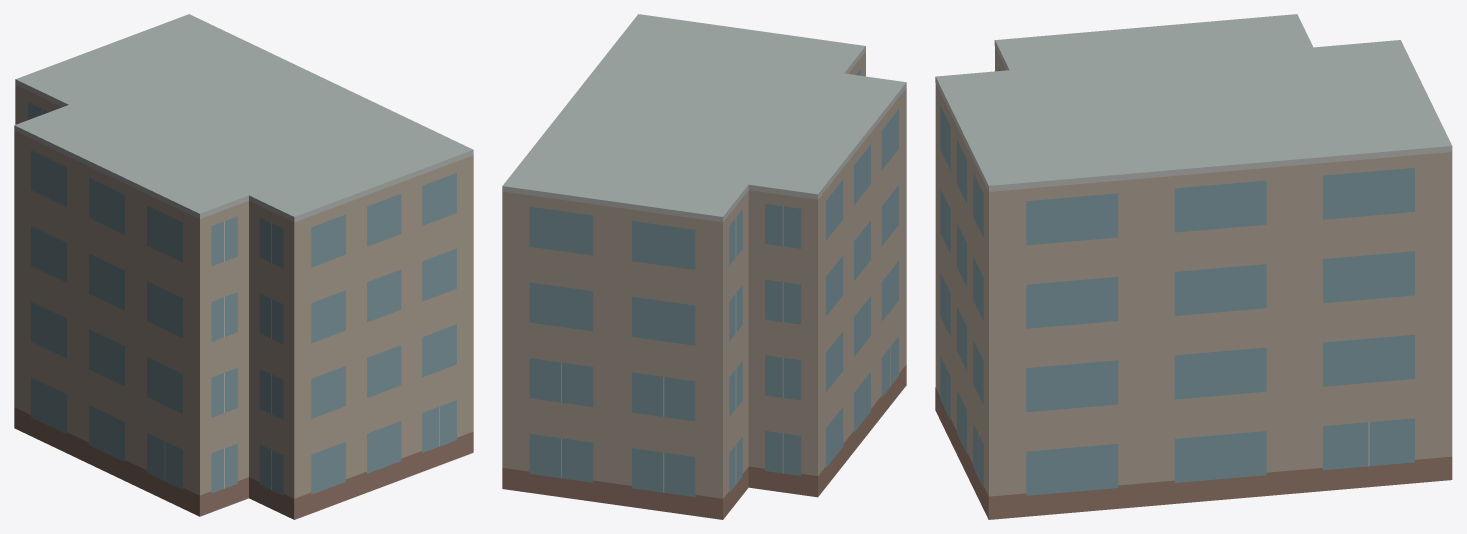
The model's file is survey-upis-33005018.glb.
3 renders of one model, left to right at view 1: azimuth 30°, elevation 25°; view 2: azimuth 150°, elevation 25°; view 3: azimuth 270°, elevation 25°, orthographic. The views are drawn at different scales.
Parts seen in each view (by area): view 1: survey-upis-33005018.tmp; view 2: survey-upis-33005018.tmp; view 3: survey-upis-33005018.tmp.
Part boxes in pixels (x1,y1,x2,y2): survey-upis-33005018.tmp: (14,14,473,519); survey-upis-33005018.tmp: (502,14,906,519); survey-upis-33005018.tmp: (935,14,1452,519).
Bounding box in the file's own units: 15.13 × 13.7 × 19.23.
